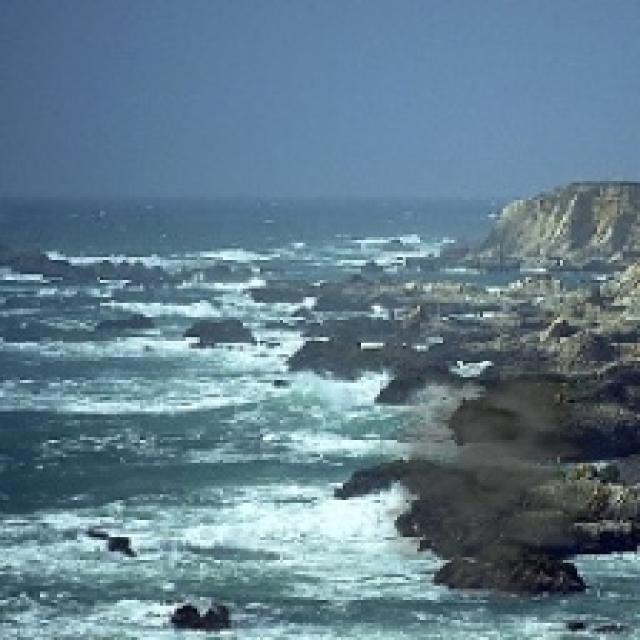smoke: (352, 351, 608, 603)
